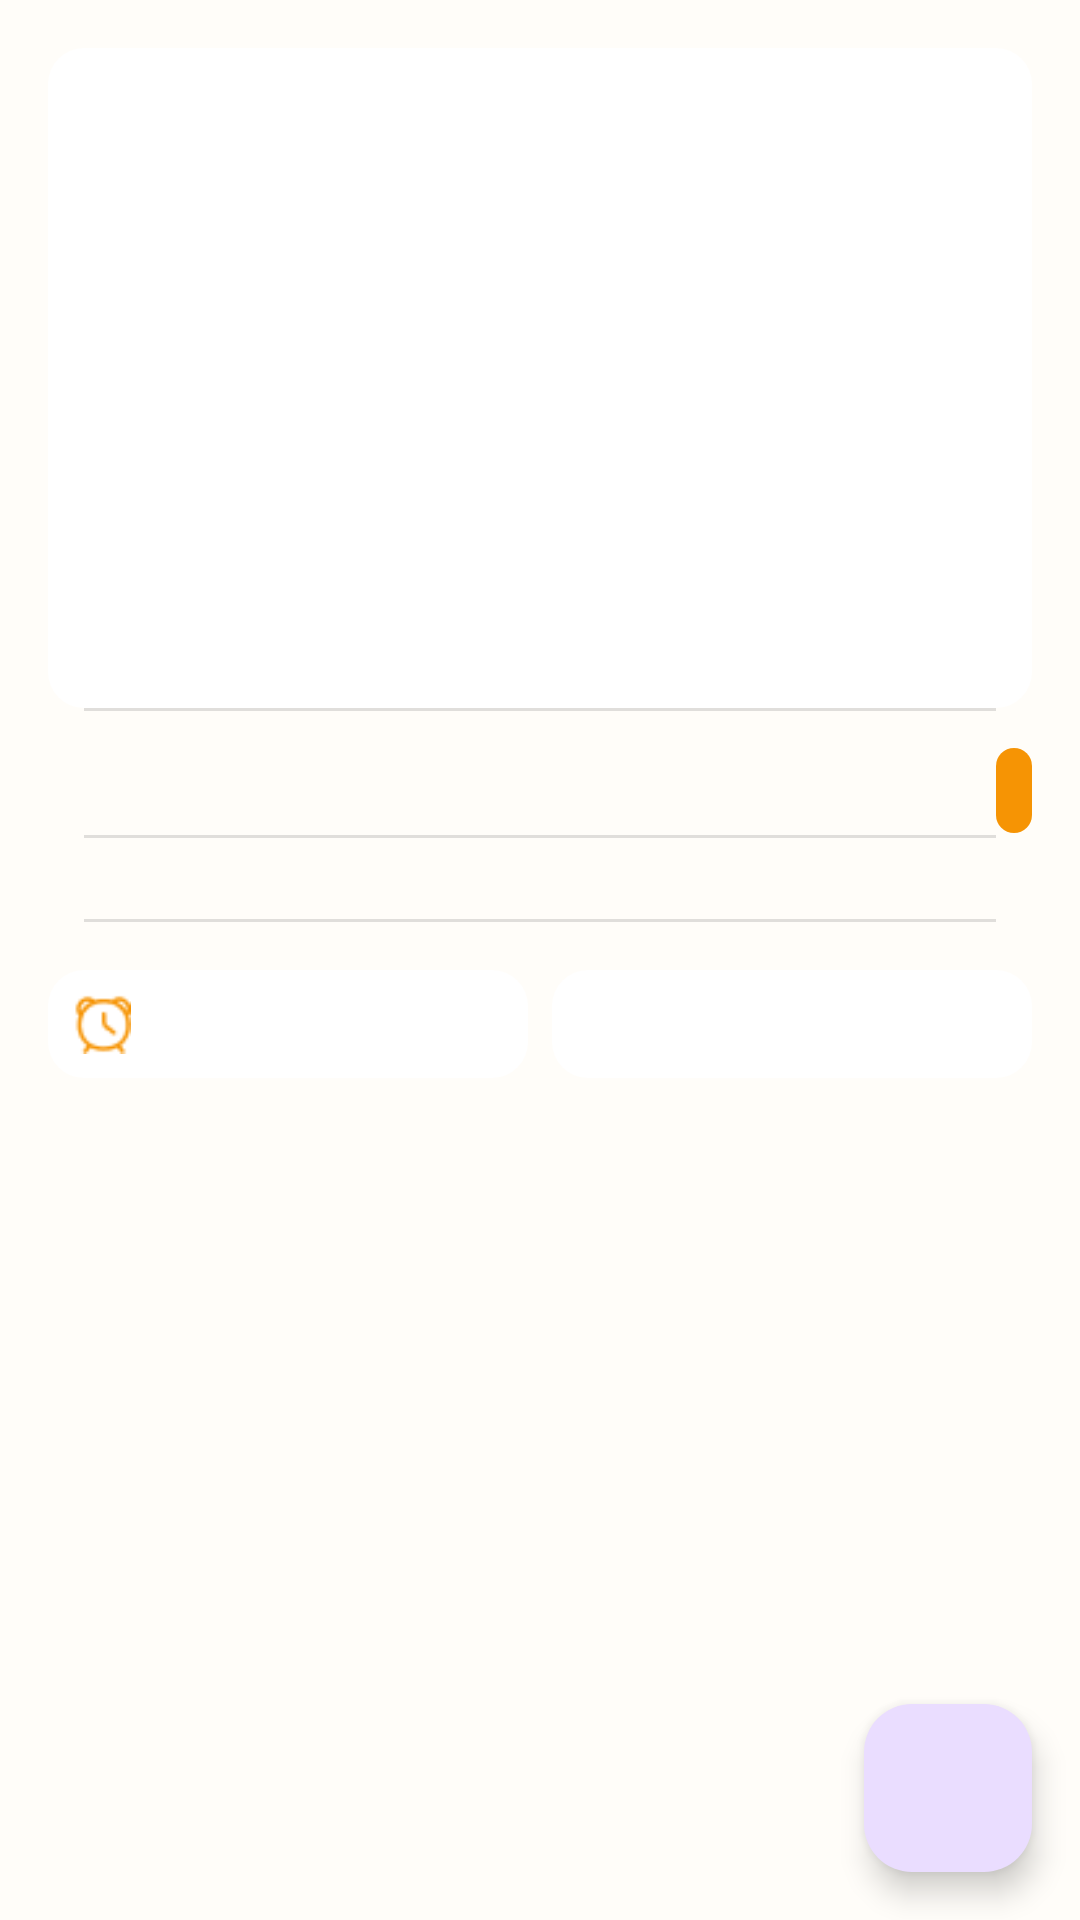

Icons on this 1080 x 1920 Android screen, each with its box as (x1,y1,x2,y2):
time: (75,996,131,1054)
